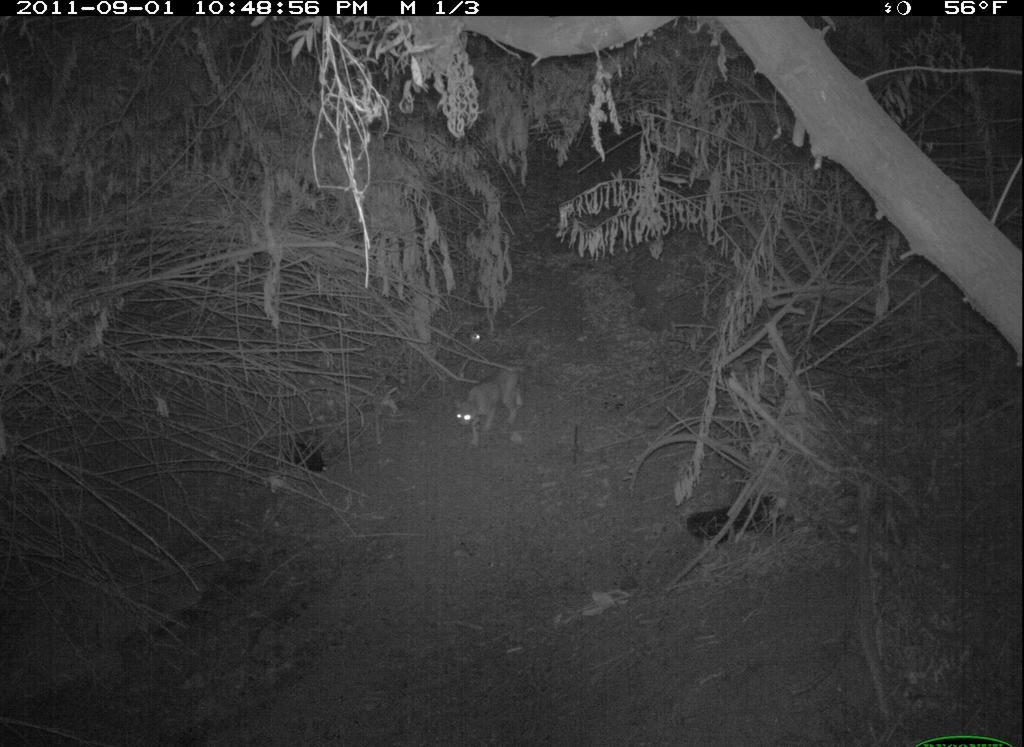bobcat: (445, 359, 537, 457)
